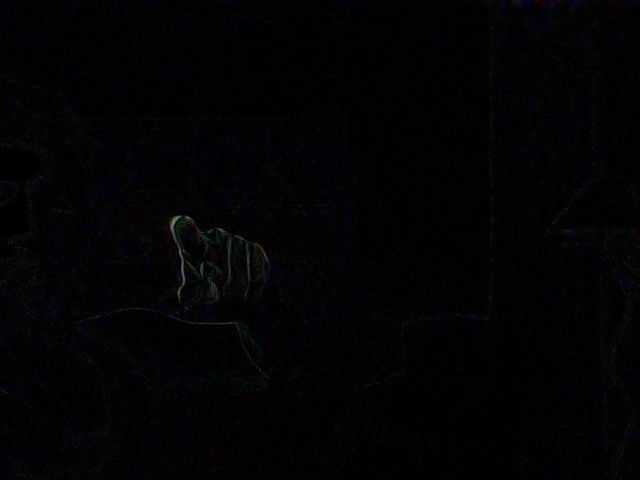hand_po: (151, 201, 286, 327)
